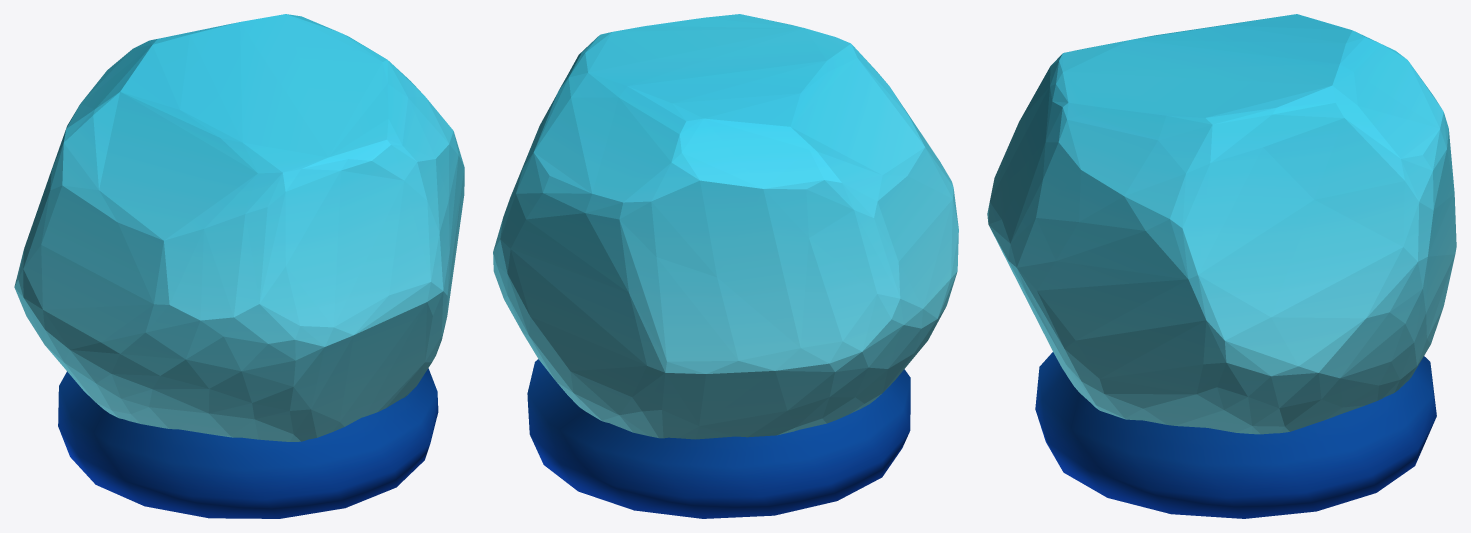
The model's file is obstacle_15_002.fbx.
The picture shows the model from 3 angles, left to right: view 1: azimuth 30°, elevation 25°; view 2: azimuth 150°, elevation 25°; view 3: azimuth 270°, elevation 25°; orthographic projection. The views are drawn at different scales.
Parts seen in each view (by area): view 1: obstacle_15_002; view 2: obstacle_15_002; view 3: obstacle_15_002.
Boxes of the visible parts, left/top/right/bottom form: obstacle_15_002: left=14, top=14, right=464, bottom=518; obstacle_15_002: left=493, top=14, right=958, bottom=518; obstacle_15_002: left=987, top=14, right=1456, bottom=518.
Size of the model in its own units: 296 by 280 by 260.
